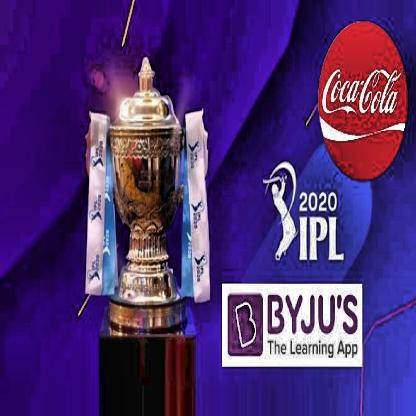Byjus: (230, 295, 360, 359), (235, 297, 256, 349)
IPL: (263, 159, 302, 263), (297, 213, 345, 265)
